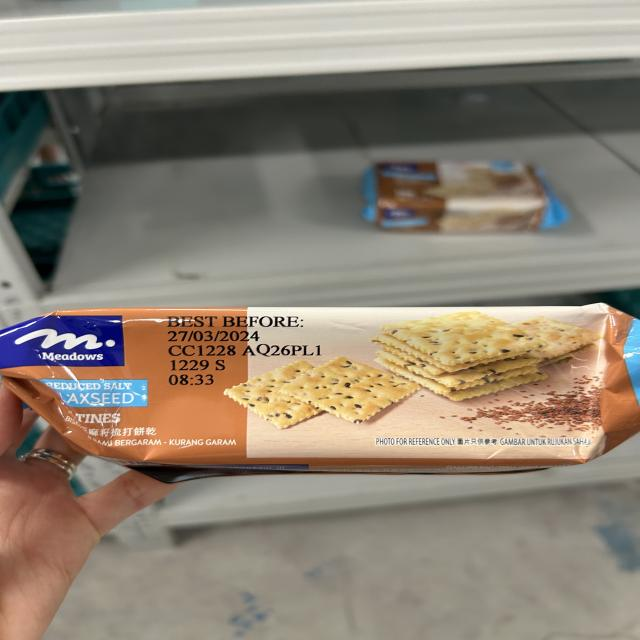object_name: (51, 315, 613, 463)
